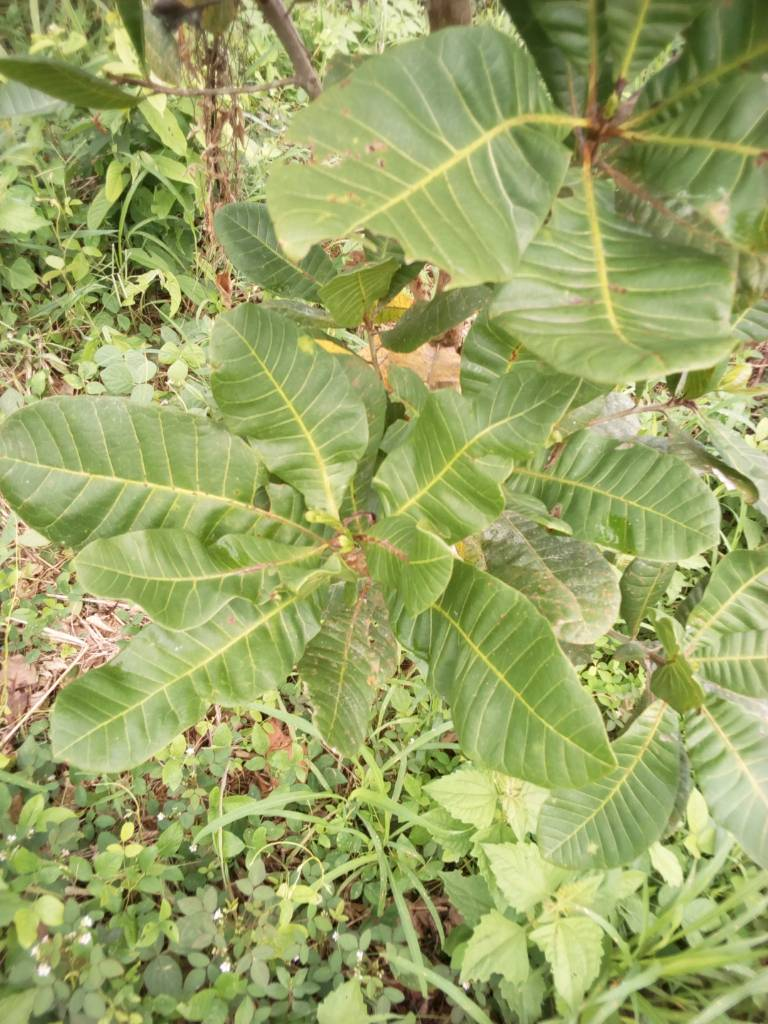Anoplonemis curvipes: (274, 17, 577, 299)
